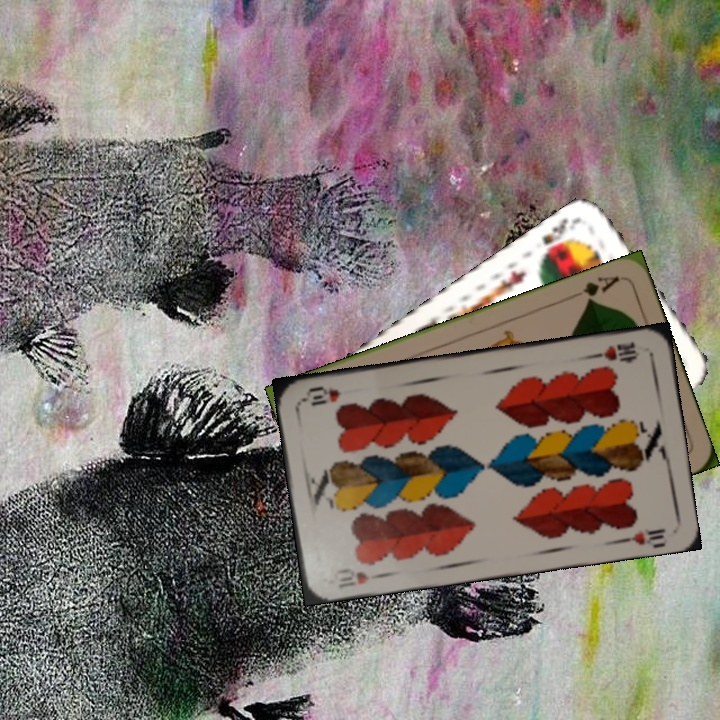GA: (566, 272, 623, 306)
H10: (329, 564, 386, 591), (587, 338, 642, 364)
SK: (538, 213, 583, 261)
